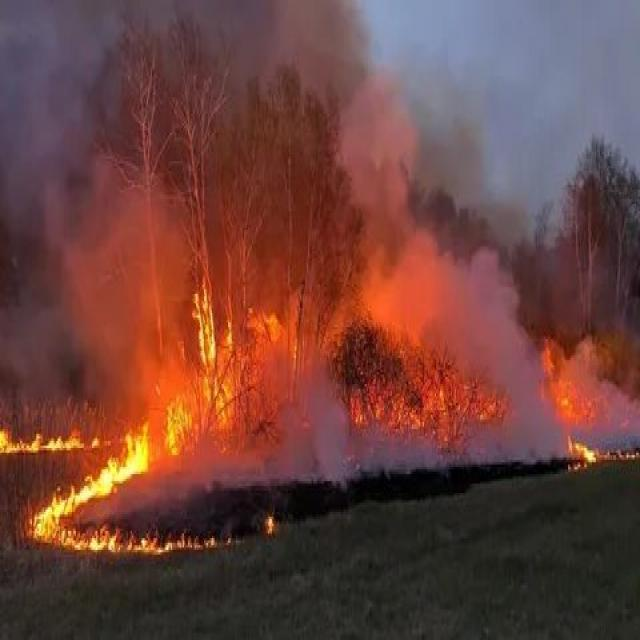Fire: (7, 376, 220, 571)
Smoke: (228, 51, 640, 464)
